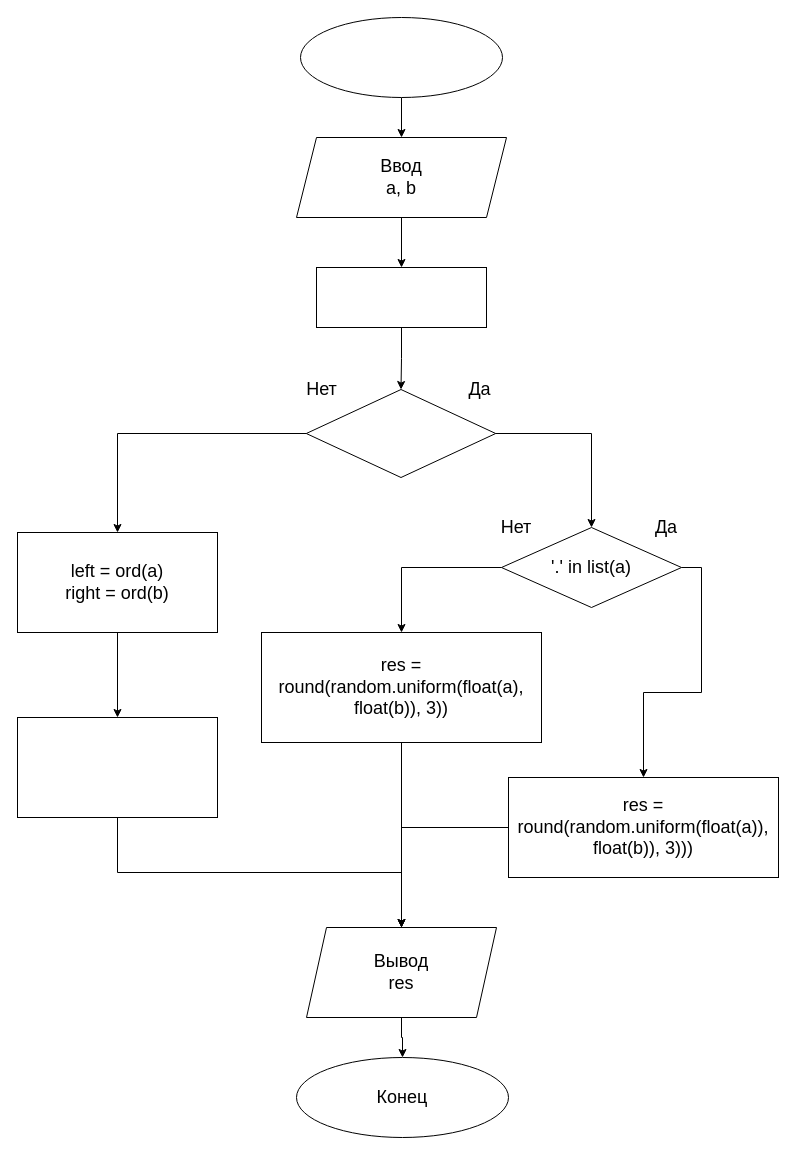
Some shapes in this 796 by 1155 pixel diagram are drawn without their labels. The shapes that lost their labels are listed below. From the top down, each one's box as (x1, y1, x2, y2) in pixels, then its label:
(300, 16, 502, 98): Начало
(316, 266, 486, 328): try
(305, 388, 496, 478): TypeError
(16, 716, 218, 818): res = chr(random.randint(left, right))
